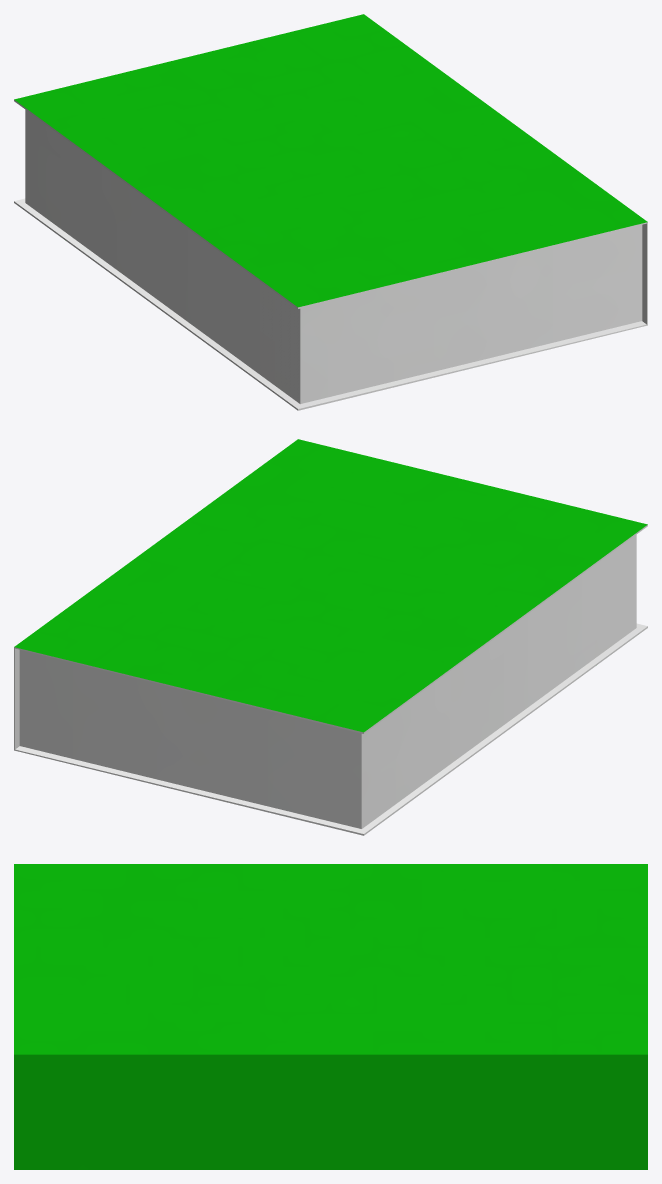
File: Book_2.fbx
The picture shows the model from 3 angles, top to bottom: view 1: azimuth 30°, elevation 25°; view 2: azimuth 150°, elevation 25°; view 3: azimuth 270°, elevation 25°; orthographic projection. The views are drawn at different scales.
Visible parts, largest first — view 1: Book 2; view 2: Book 2; view 3: Book 2.
Part boxes in pixels (<box>): Book 2: <box>14,14,647,410</box>; Book 2: <box>14,439,647,835</box>; Book 2: <box>14,864,647,1169</box>.
Bounding box in the file's own units: 21.61 × 6.1 × 30.4.
